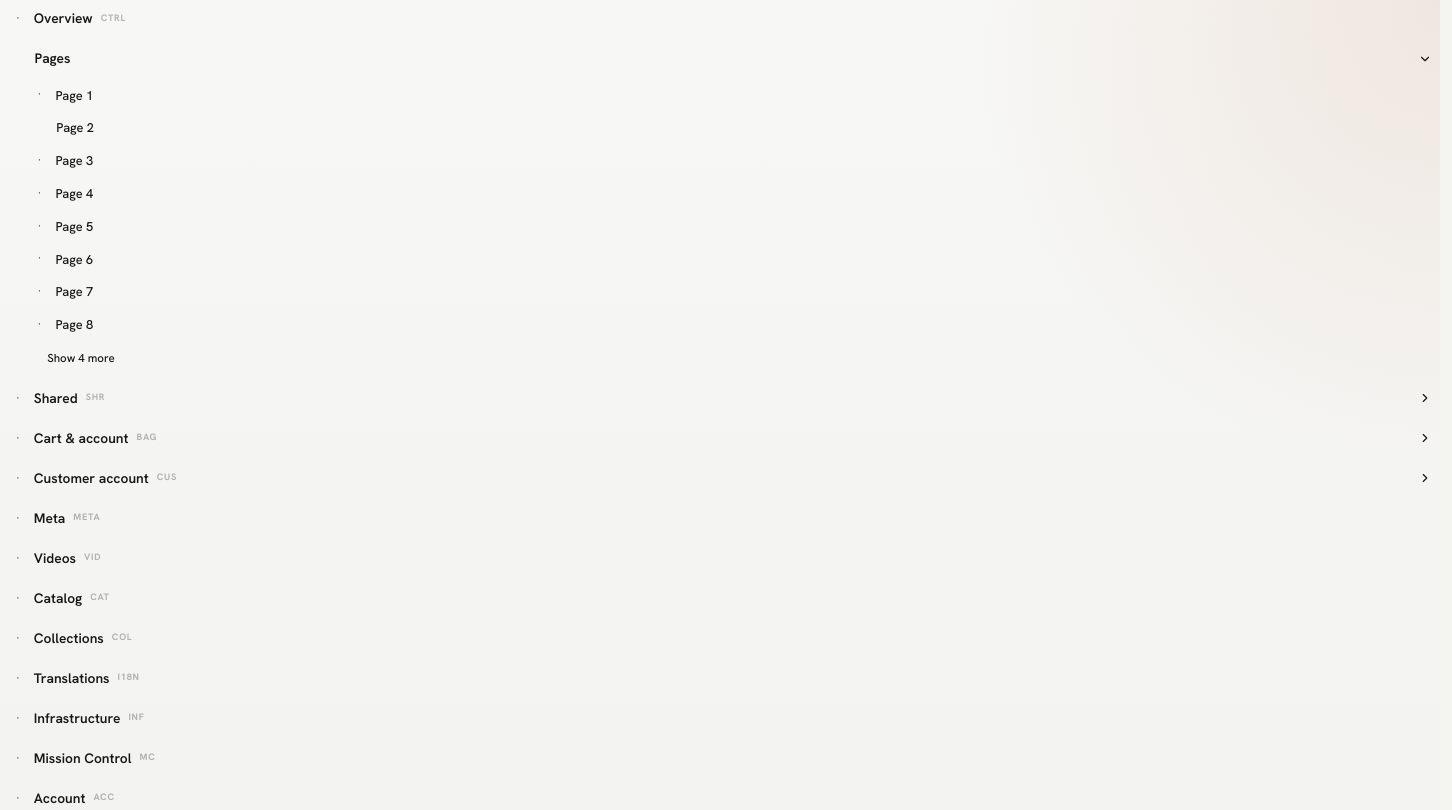
Test: AdminNavTree › keeps Catalog flat and expands Pages from the route
Expected: the link "· Catalog CAT" is shown, [16,589,110,607]
Click the button named "Expand Shared" at (1425, 398), box [1410,380,1440,417]
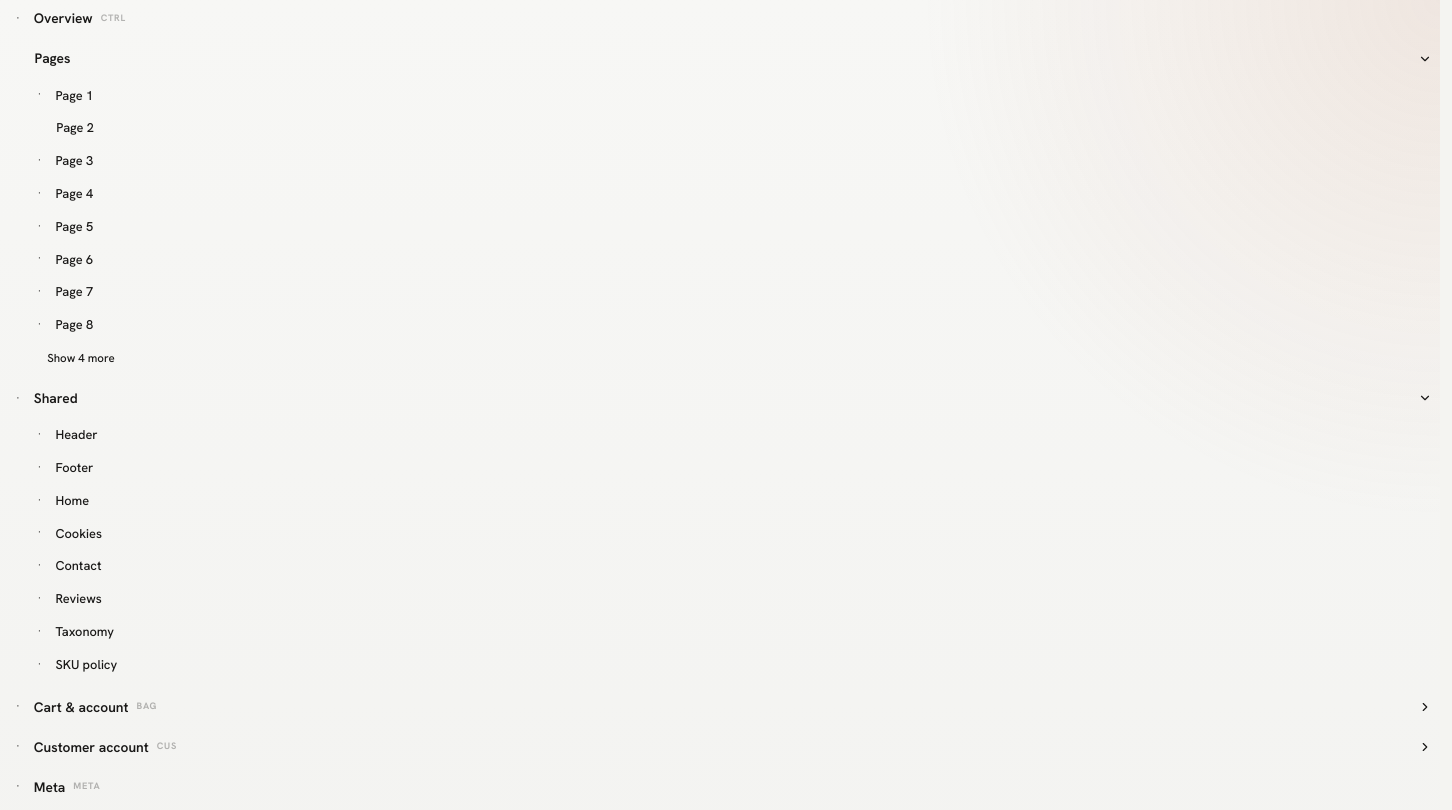
Now the link "· Header" is shown, box [38,426,98,443]
